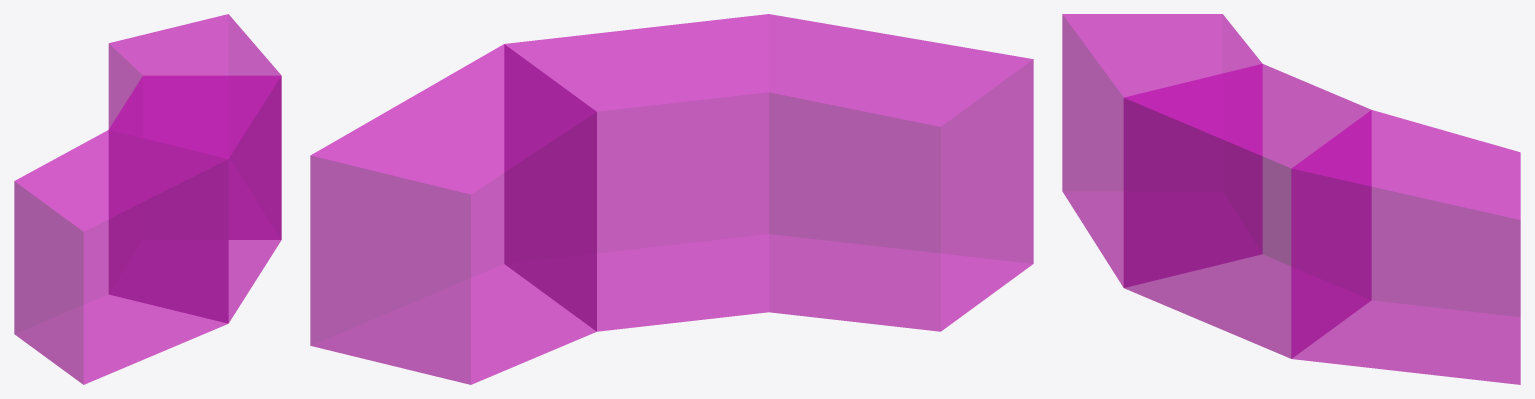
Rendered from SM_Bld_Wall_L_Curve_Half_Damaged_03_Collision.fbx.
The picture shows the model from 3 angles, left to right: view 1: azimuth 30°, elevation 25°; view 2: azimuth 150°, elevation 25°; view 3: azimuth 270°, elevation 25°; orthographic projection. The views are drawn at different scales.
Visible parts, largest first — view 1: SM_Bld_Wall_L_Curve_Half_Damaged_03_Collision; view 2: SM_Bld_Wall_L_Curve_Half_Damaged_03_Collision; view 3: SM_Bld_Wall_L_Curve_Half_Damaged_03_Collision.
Part boxes in pixels (x1=…): SM_Bld_Wall_L_Curve_Half_Damaged_03_Collision: x1=14, y1=14, x2=281, y2=384; SM_Bld_Wall_L_Curve_Half_Damaged_03_Collision: x1=310, y1=14, x2=1033, y2=384; SM_Bld_Wall_L_Curve_Half_Damaged_03_Collision: x1=1062, y1=14, x2=1520, y2=384.
Size of the model in its own units: 336 by 154 by 336.
